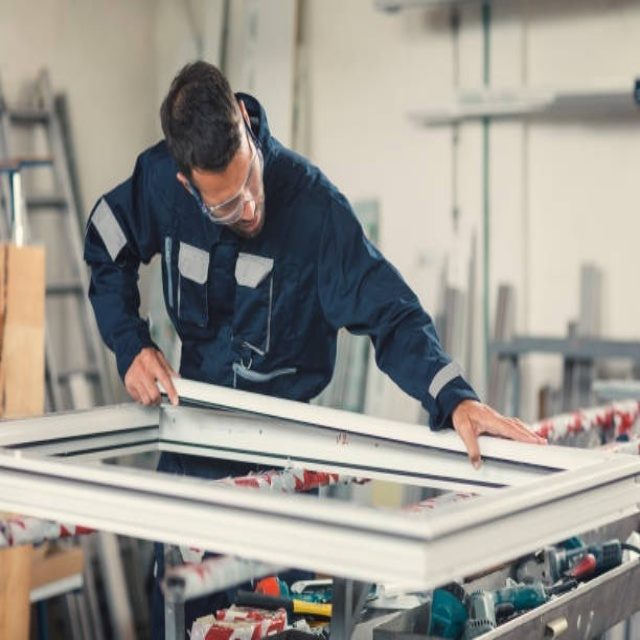Gafas: (189, 127, 262, 224)
Sin_guantes: (455, 400, 546, 468), (120, 340, 181, 414)
Sin_mascara: (231, 202, 265, 242)
